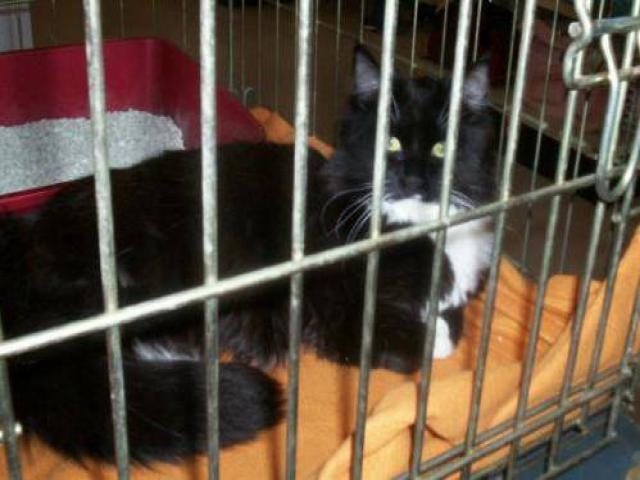cat: (127, 66, 518, 350)
